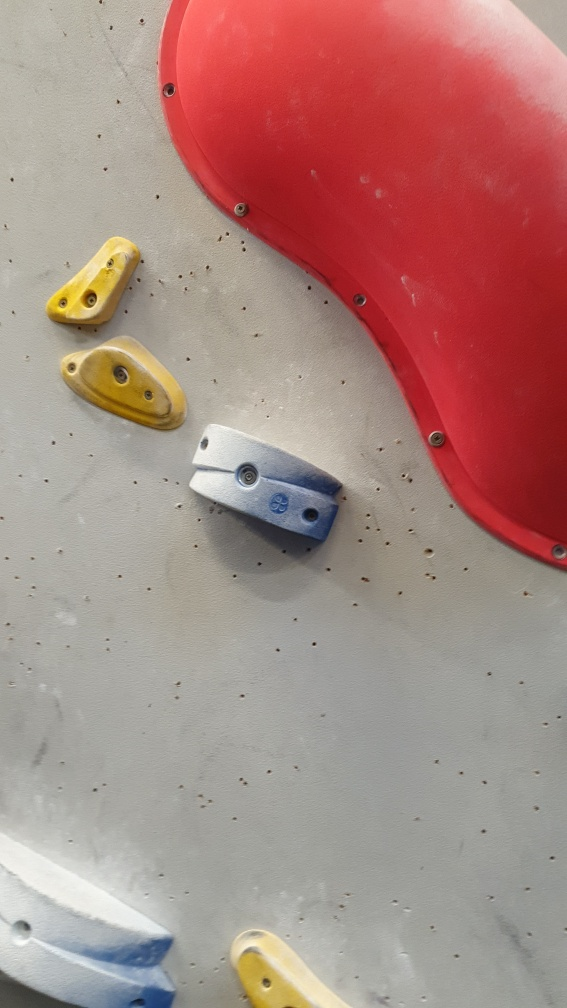Crimp: (70, 339, 179, 420), (59, 242, 145, 332), (231, 937, 330, 1008)
Pinch: (1, 826, 175, 1007), (187, 419, 347, 552)
